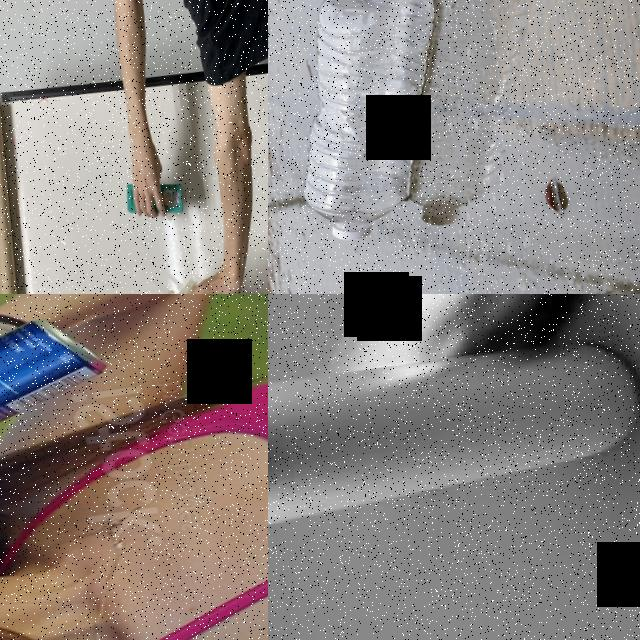can: (268, 330, 640, 548), (294, 294, 599, 381), (0, 309, 119, 499)
cup: (163, 273, 233, 294)
